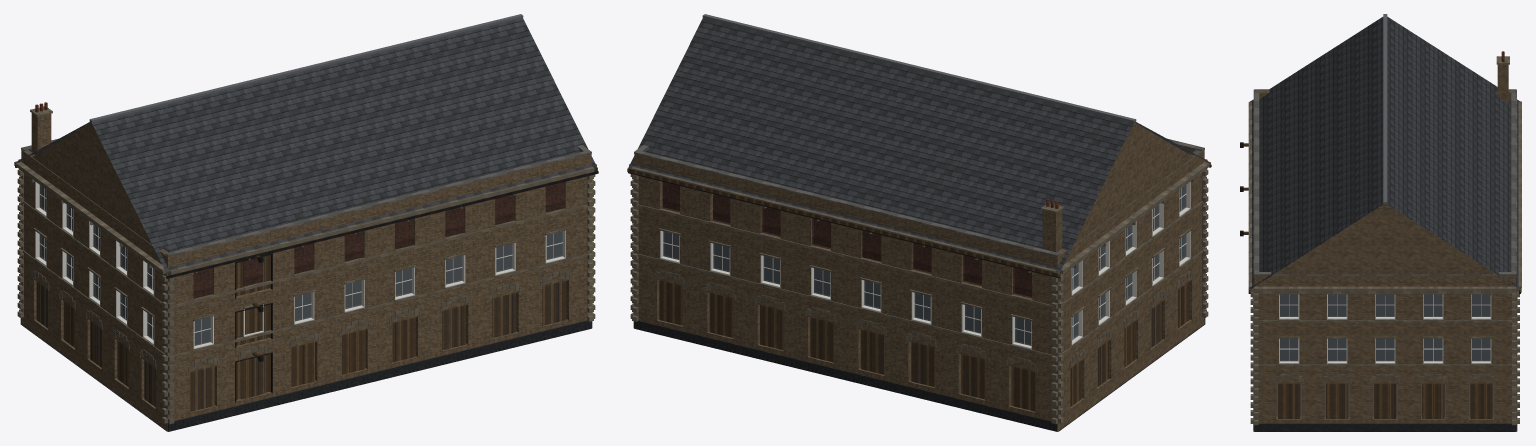
The model's file is B_store2.glb.
The picture shows the model from 3 angles, left to right: view 1: azimuth 30°, elevation 25°; view 2: azimuth 150°, elevation 25°; view 3: azimuth 270°, elevation 25°; orthographic projection. The views are drawn at different scales.
Visible parts, largest first — view 1: B_store2; view 2: B_store2; view 3: B_store2.
Boxes of the visible parts, x1,y1,x2,y2 form: B_store2: (14, 14, 598, 431); B_store2: (627, 14, 1211, 431); B_store2: (1240, 14, 1521, 431).
Bounding box in the file's own units: 30.76 × 17.53 × 19.35.
14 materials, 9 textured.
